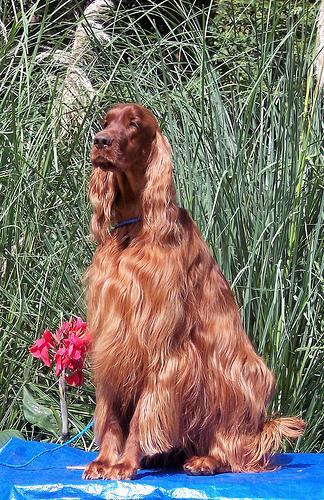Irish_setter: (78, 100, 310, 482)
